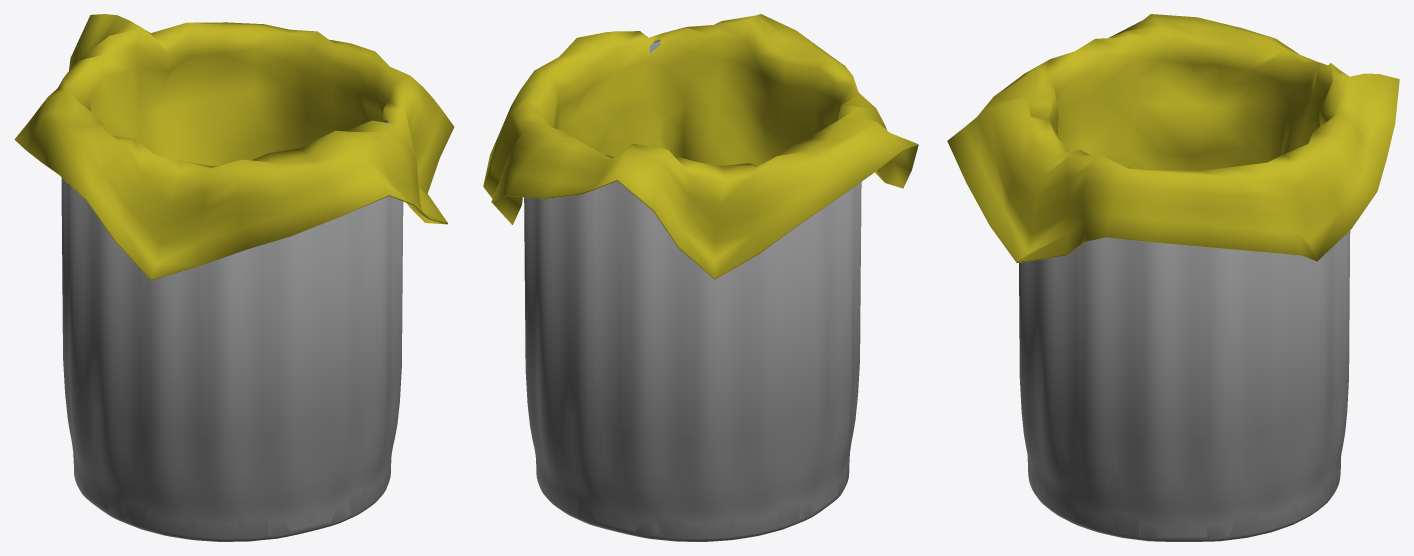
File: yellow_can.fbx
3 views of the same model, side by side, from view 1: azimuth 30°, elevation 25°; view 2: azimuth 150°, elevation 25°; view 3: azimuth 270°, elevation 25° (orthographic).
Parts seen in each view (by area): view 1: Circle.001; view 2: Circle.001; view 3: Circle.001.
Boxes of the visible parts, x1,y1,x2,y2 form: Circle.001: (14,14,454,541); Circle.001: (483,14,918,541); Circle.001: (947,14,1399,541).
Bounding box in the file's own units: 272 × 278 × 288.
